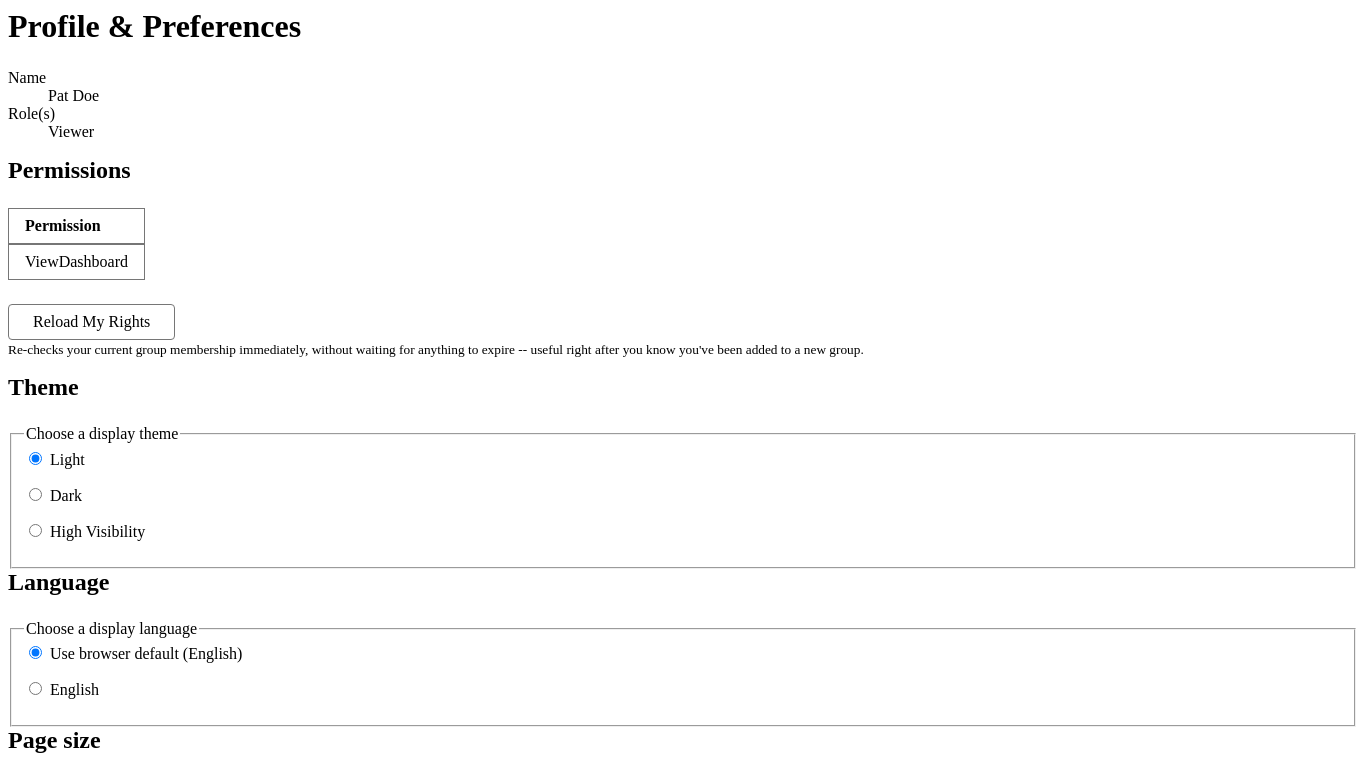
Test: MyProfile › Reload My Rights keeps the page and says it reloaded
The width and height of the screenshot is (1366, 768).
Click the button "Reload My Rights" at (92, 322), box [8,304,175,340]
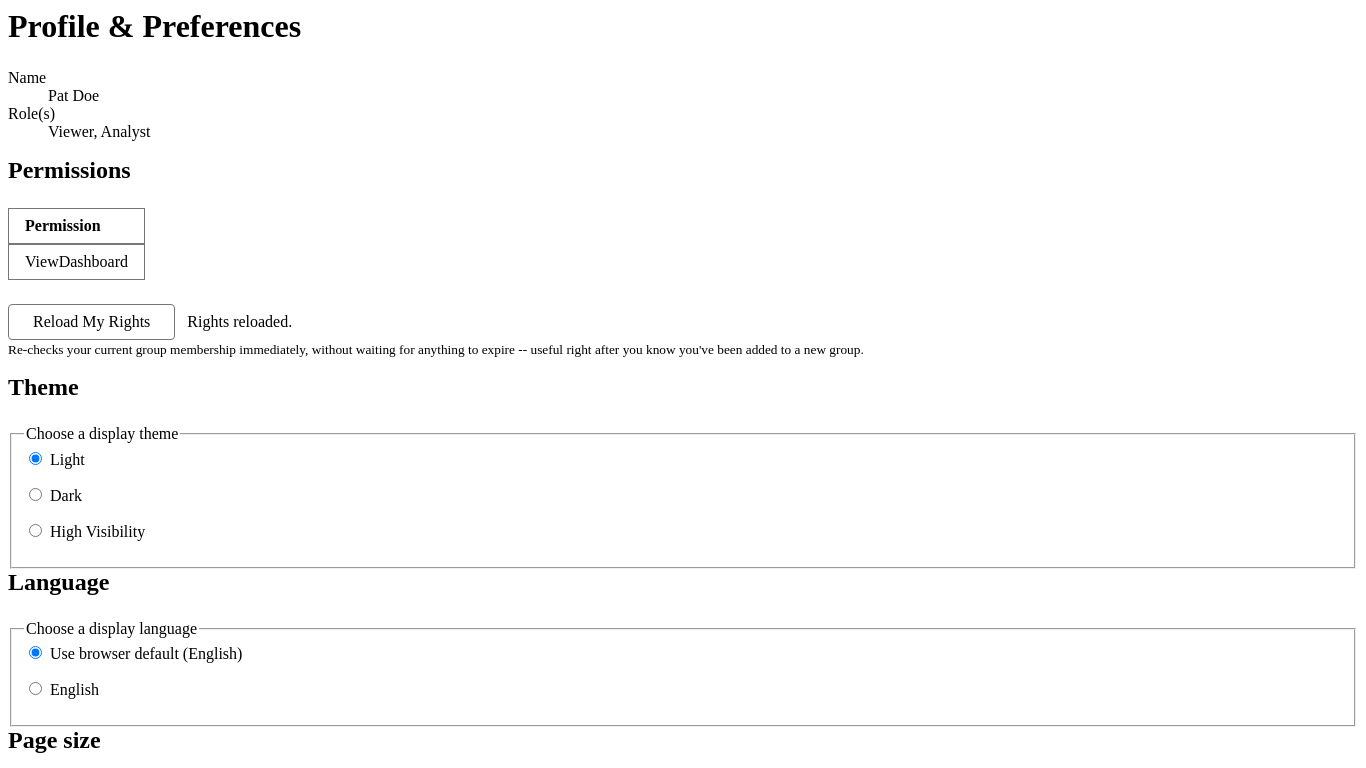
Check: the heading "Permissions" is shown, box [8,157,131,183]
Check: the text "Rights reloaded." is shown, box [183,313,292,330]
Check: the element showing "Name Pat Doe Role(s) Viewer, Analyst" is shown, box [8,69,150,140]
